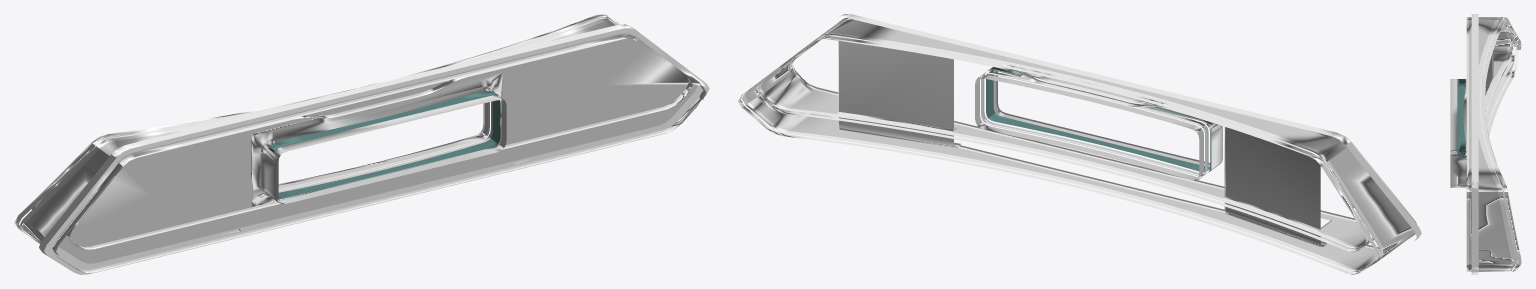
Rendered from fl_display_wall_datapad_a.glb.
3 renders of one model, left to right at view 1: azimuth 30°, elevation 25°; view 2: azimuth 150°, elevation 25°; view 3: azimuth 270°, elevation 25°, orthographic. The views are drawn at different scales.
Bounding box in the file's own units: 18.15 × 3.01 × 2.45.
